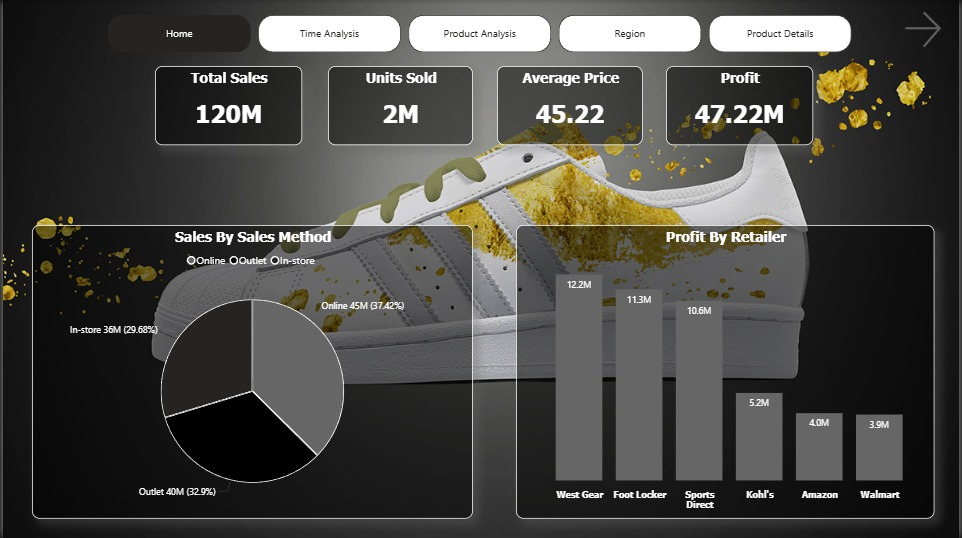

The page's visual inventory and layout, read from the dashboard file:
{"tool":"powerbi","page":{"name":"Home","canvas":[1280,720],"ordinal":0},"visuals":[{"type":"card","title":"Total Sales","fields":{"Values":["Sum(Adidas_Sales.Total Sales)"]},"box":[203.4,88.3,196.7,105.7],"z":0},{"type":"card","title":"Profit","fields":{"Values":["Sum(Adidas_Sales.Operating Profit)"]},"box":[887.3,88.3,196.7,105.7],"z":1000},{"type":"card","title":"Units Sold","fields":{"Values":["Sum(Adidas_Sales.Units Sold)"]},"box":[434.9,88.3,194.1,105.7],"z":2000},{"type":"card","title":"Average Price","fields":{"Values":["Avg(Adidas_Sales.Price per Unit)"]},"box":[661.1,88.3,195.4,105.7],"z":3000},{"type":"pieChart","title":"Sales By Sales Method","fields":{"Category":["Adidas_Sales.Sales Method"],"Y":["Sum(Adidas_Sales.Total Sales)"]},"box":[39.4,301.3,590,392.9],"z":4000},{"type":"columnChart","title":"Profit By Retailer","fields":{"Category":["Adidas_Sales.Retailer"],"Y":["Sum(Adidas_Sales.Operating Profit)"]},"box":[687.2,301.3,560.4,392.9],"z":5000},{"type":"pageNavigator","box":[140.2,19.6,999.6,50.5],"z":6000},{"type":"actionButton","box":[1200.1,9.8,68.7,60.3],"z":7000}]}

Visuals, with their boxes in screenshot pixels (x1, y1, x2, y2), scaled from the page's 1280x720 canvas onto the 962x538 screenshot:
"Total Sales" card: (x1=153, y1=66, x2=301, y2=145)
"Profit" card: (x1=667, y1=66, x2=815, y2=145)
"Units Sold" card: (x1=327, y1=66, x2=473, y2=145)
"Average Price" card: (x1=497, y1=66, x2=644, y2=145)
"Sales By Sales Method" pieChart: (x1=30, y1=225, x2=473, y2=519)
"Profit By Retailer" columnChart: (x1=516, y1=225, x2=938, y2=519)
pageNavigator: (x1=105, y1=15, x2=857, y2=52)
actionButton: (x1=902, y1=7, x2=954, y2=52)
